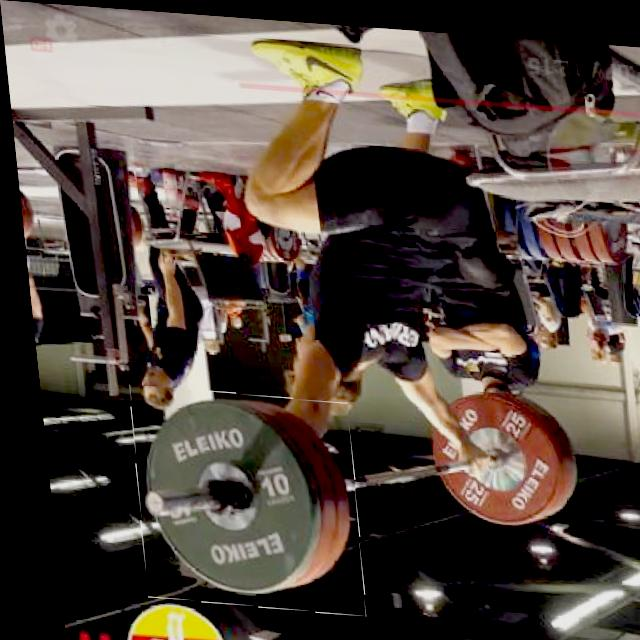barbell: (119, 384, 356, 611)
